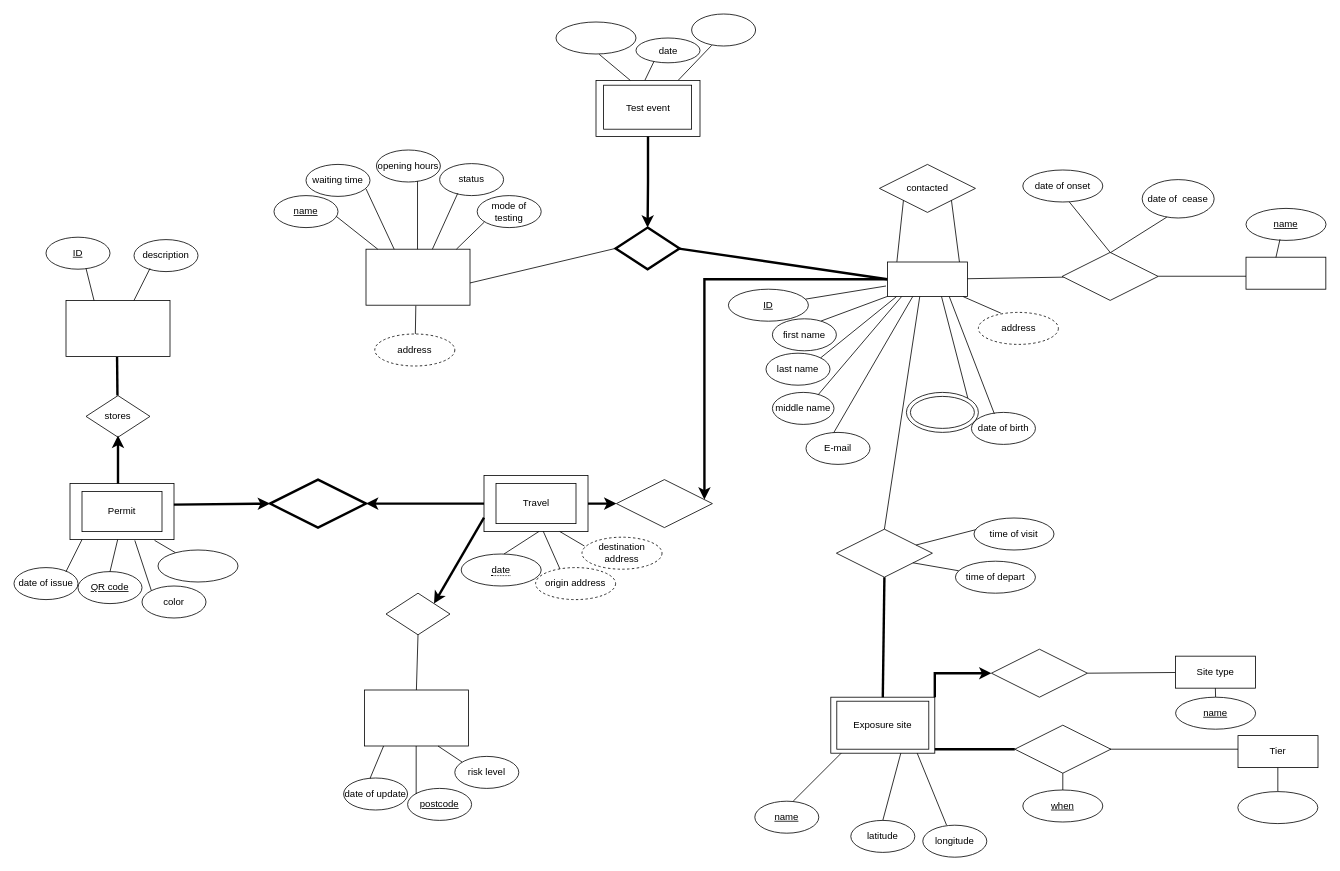
This 1340x871 diagram has some shape labels left out. The shapes that lost their labels are listed below. From the top down, each one's centre as x and y in pixels, then its label:
At pixel 595 37: "test ID".
At pixel 723 29: "result".
At pixel 647 248: "tests".
At pixel 417 276: "Testing centre".
At pixel 927 278: "Person".
At pixel 1109 276: "shows".
At pixel 1285 272: "Symptoms".
At pixel 117 328: "Condition".
At pixel 942 412: "phone number".
At pixel 317 503: "has".
At pixel 664 503: "goes".
At pixel 197 565: "used or not".
At pixel 884 552: "visited".
At pixel 417 613: "travels".
At pixel 1039 672: "classifies".
At pixel 416 717: "Region".
At pixel 1062 748: "is".
At pixel 1277 807: "level".
